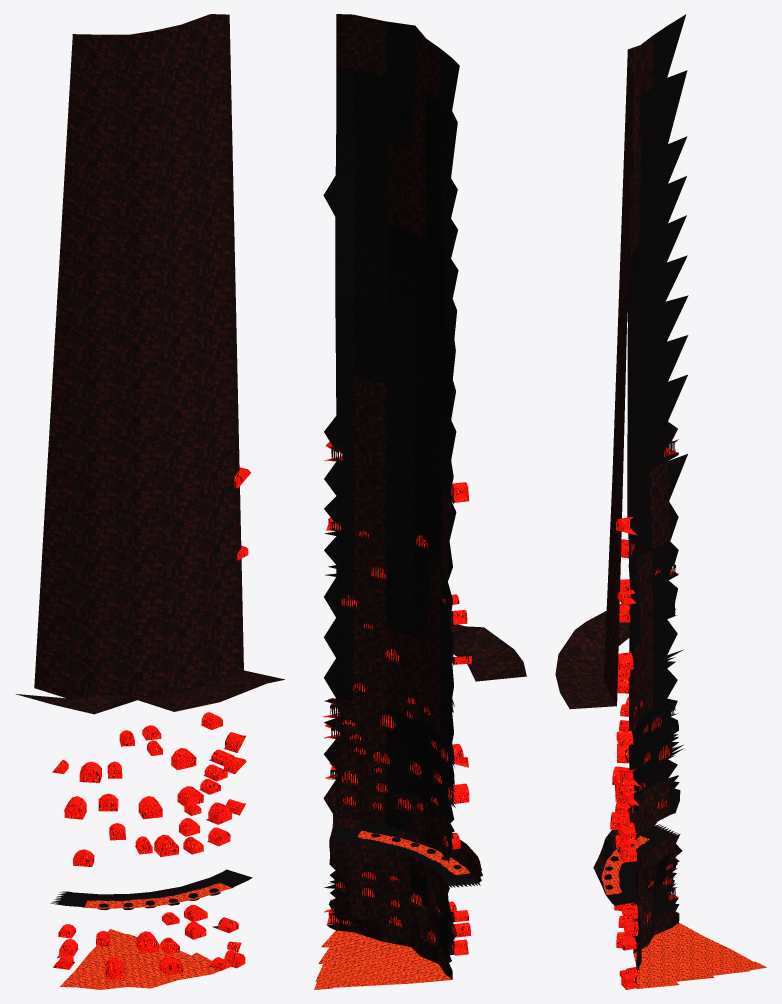
File: map_base_s2.glb
The picture shows the model from 3 angles, left to right: view 1: azimuth 30°, elevation 25°; view 2: azimuth 150°, elevation 25°; view 3: azimuth 270°, elevation 25°; orthographic projection. The views are drawn at different scales.
Visible parts, largest first — view 1: MapBaseS2Rock; view 2: MapBaseS2Rock; view 3: MapBaseS2Rock.
Part boxes in pixels (x1=…): MapBaseS2Rock: x1=15, y1=14, x2=284, y2=989; MapBaseS2Rock: x1=314, y1=14, x2=526, y2=989; MapBaseS2Rock: x1=555, y1=14, x2=766, y2=989.
Size of what is drawn, in the model's own units: 85.72 by 342 by 72.74.
Materials: 6 (6 with a texture image).
